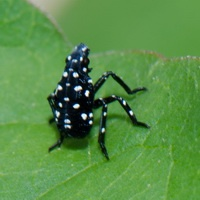insect: (47, 43, 149, 159)
